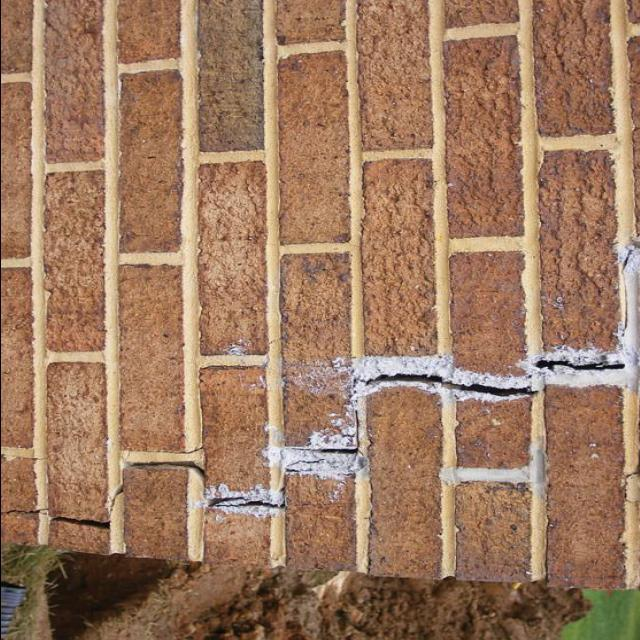wall_crack: (352, 340, 640, 401), (0, 482, 125, 525), (121, 452, 214, 481), (281, 431, 364, 460), (208, 488, 286, 513)
